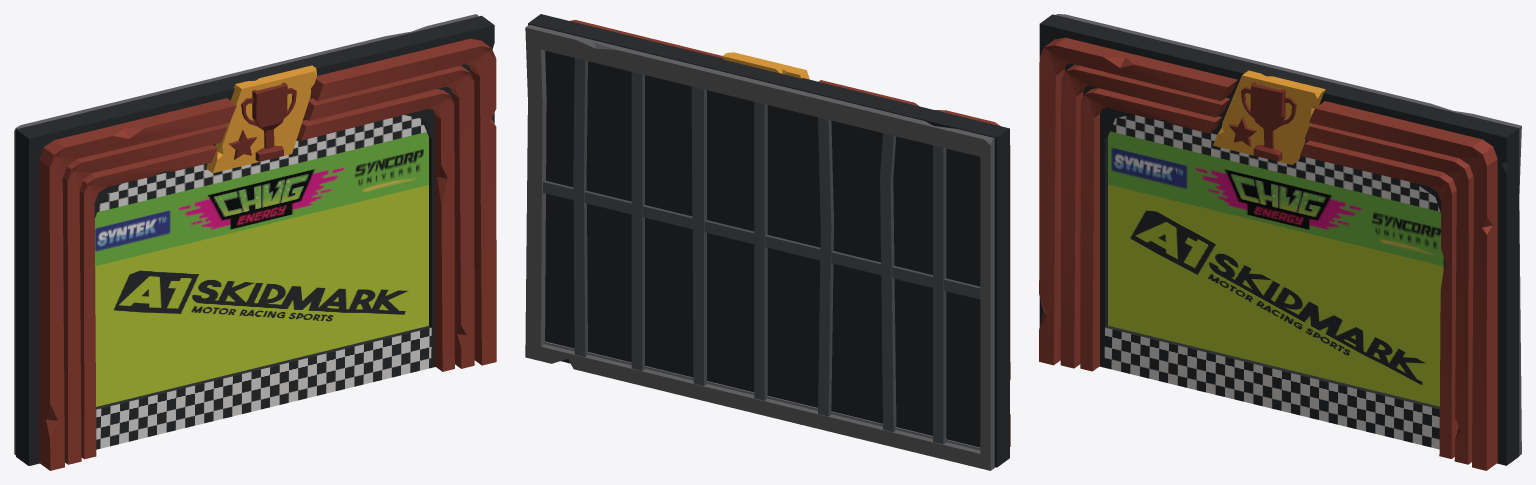
File: SM_Prop_Stage_Backdrop_01.fbx
3 renders of one model, left to right at view 1: azimuth 30°, elevation 25°; view 2: azimuth 150°, elevation 25°; view 3: azimuth 330°, elevation 25°, orthographic.
Visible parts, largest first — view 1: SM_Prop_Stage_Backdrop_01; view 2: SM_Prop_Stage_Backdrop_01; view 3: SM_Prop_Stage_Backdrop_01.
Boxes of the visible parts, x1=… form: SM_Prop_Stage_Backdrop_01: x1=14, y1=14, x2=496, y2=470; SM_Prop_Stage_Backdrop_01: x1=525, y1=14, x2=1010, y2=470; SM_Prop_Stage_Backdrop_01: x1=1039, y1=14, x2=1521, y2=470.
Size of the model in its own units: 1022 by 695 by 106.
